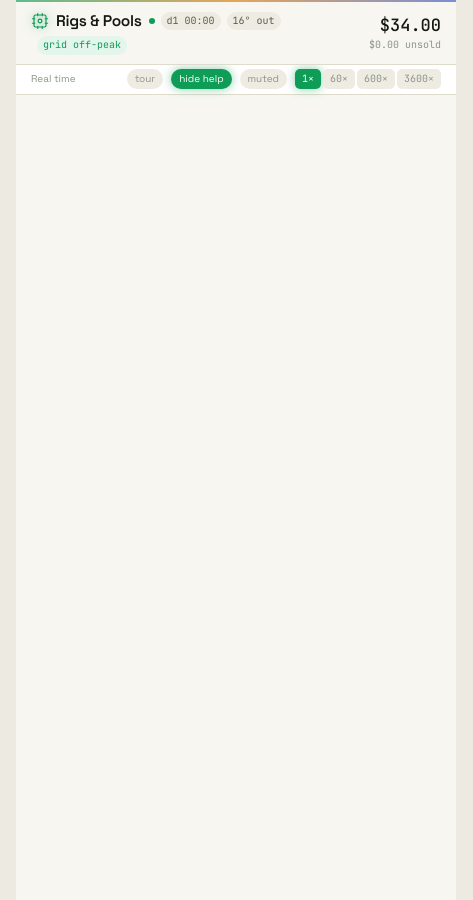
Test: TopBar › the help toggle still finds itself correctly even once the "tour" pill is also on screen
The image size is (473, 900).
Expected: the button "tour" is shown, [127, 69, 163, 90]
Click the button with class "helptog" showing "hide help".
click(201, 79)  # box [171, 69, 232, 90]
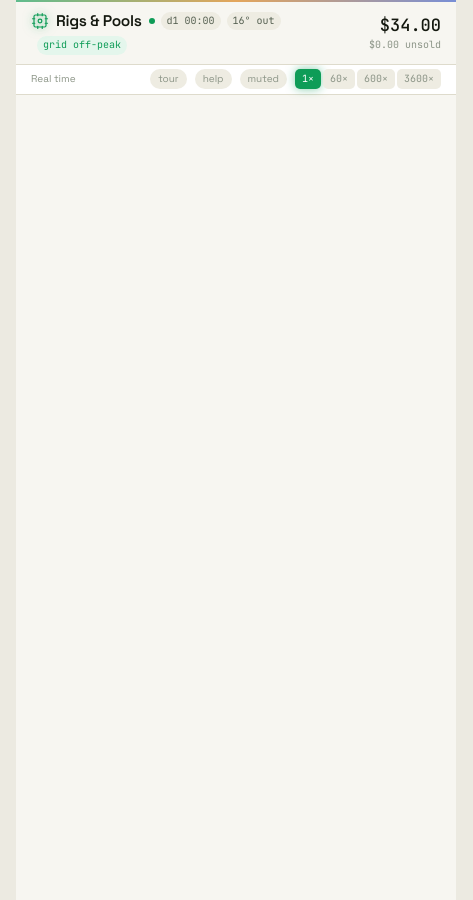
Now the button with class "helptog" reads "help", box [195, 69, 232, 90]
